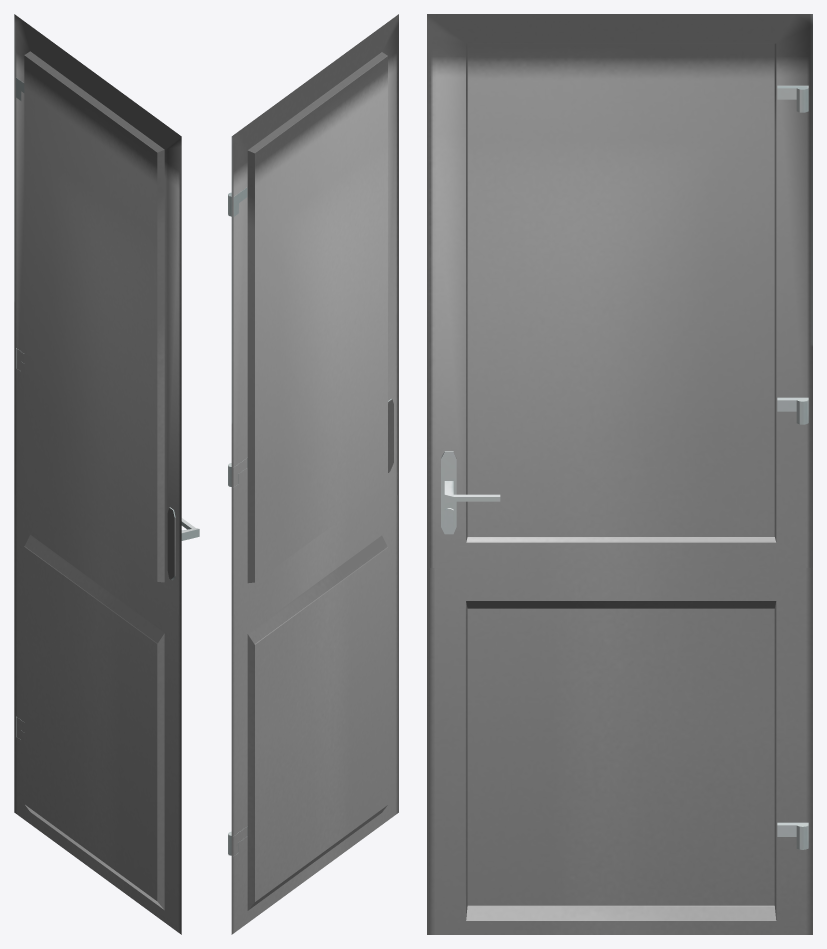
Rendered from korid_out.fbx.
3 renders of one model, left to right at view 1: azimuth 30°, elevation 25°; view 2: azimuth 150°, elevation 25°; view 3: azimuth 270°, elevation 25°, orthographic. The views are drawn at different scales.
Visible parts, largest first — view 1: korid_out; view 2: korid_out; view 3: korid_out.
Part boxes in pixels (left/top/right/bottom): korid_out: left=14, top=14, right=199, bottom=934; korid_out: left=228, top=14, right=398, bottom=934; korid_out: left=427, top=14, right=812, bottom=934.
Bounding box in the file's own units: 0.085 × 2.01 × 0.7643.
